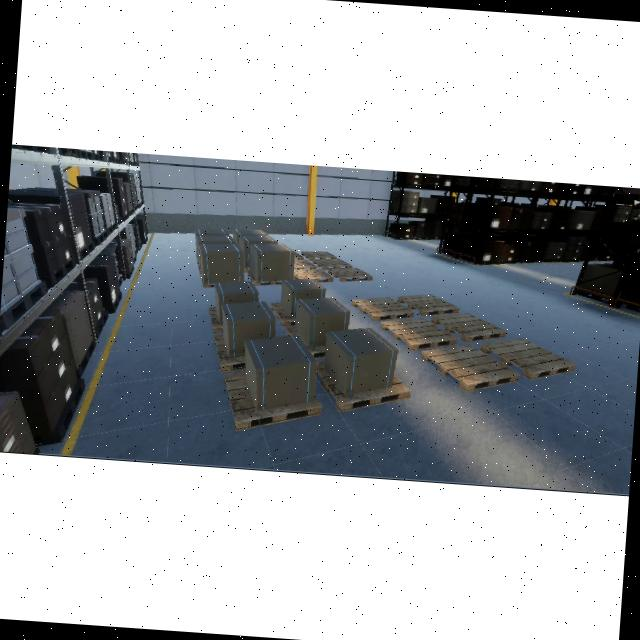wooden_pallet: (223, 372, 321, 432), (315, 361, 410, 412), (420, 345, 520, 393), (479, 337, 576, 380), (380, 317, 458, 350), (430, 312, 507, 342), (351, 296, 414, 321), (397, 293, 459, 316), (213, 334, 245, 372), (326, 266, 372, 281), (312, 258, 352, 270)
